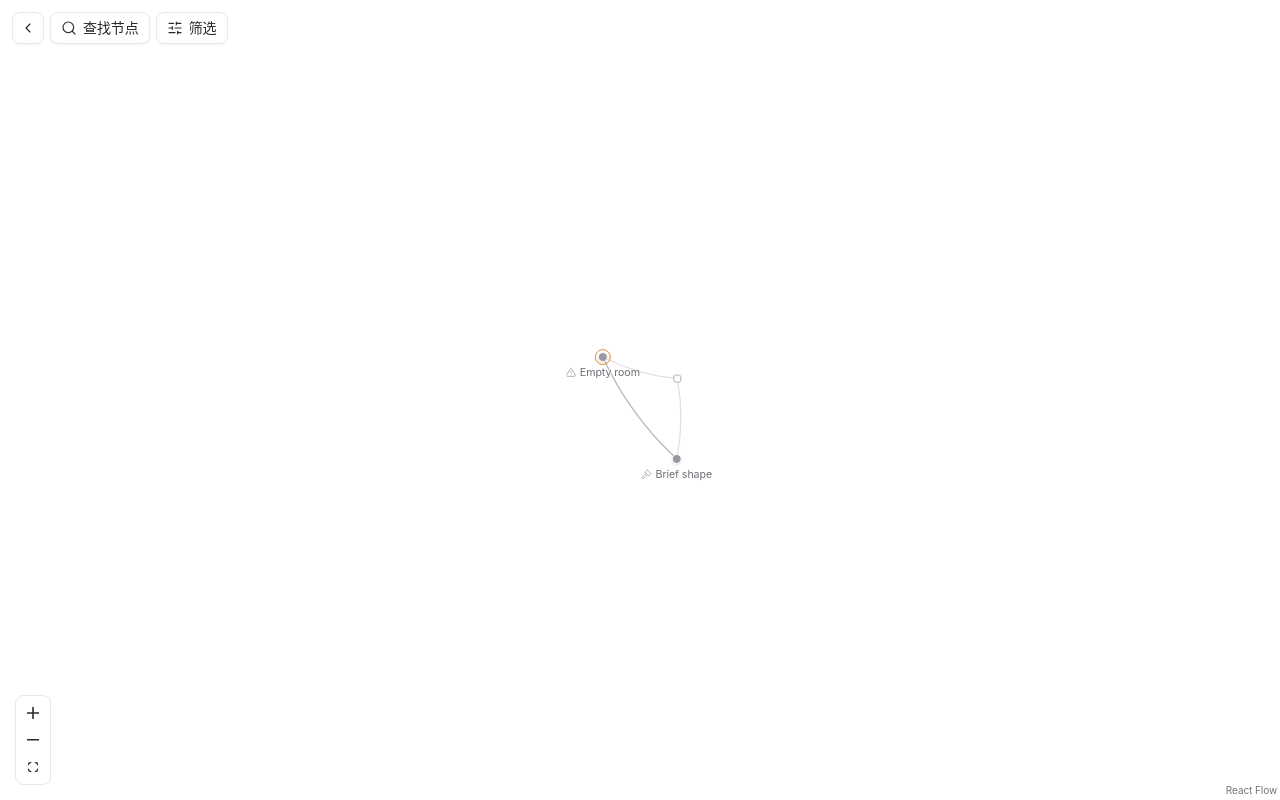
it: WikiGraphView › draws the pages and the directories two of them name a path in; the filters add the rest
The image size is (1280, 800).
Expected: the text "Brief shape" is shown, x1=656 y1=468 x2=712 y2=481
Expected: the text "Empty room" is shown, x1=580 y1=366 x2=640 y2=379
Click the button "筛选" at (192,28), box x1=156 y1=12 x2=228 y2=44
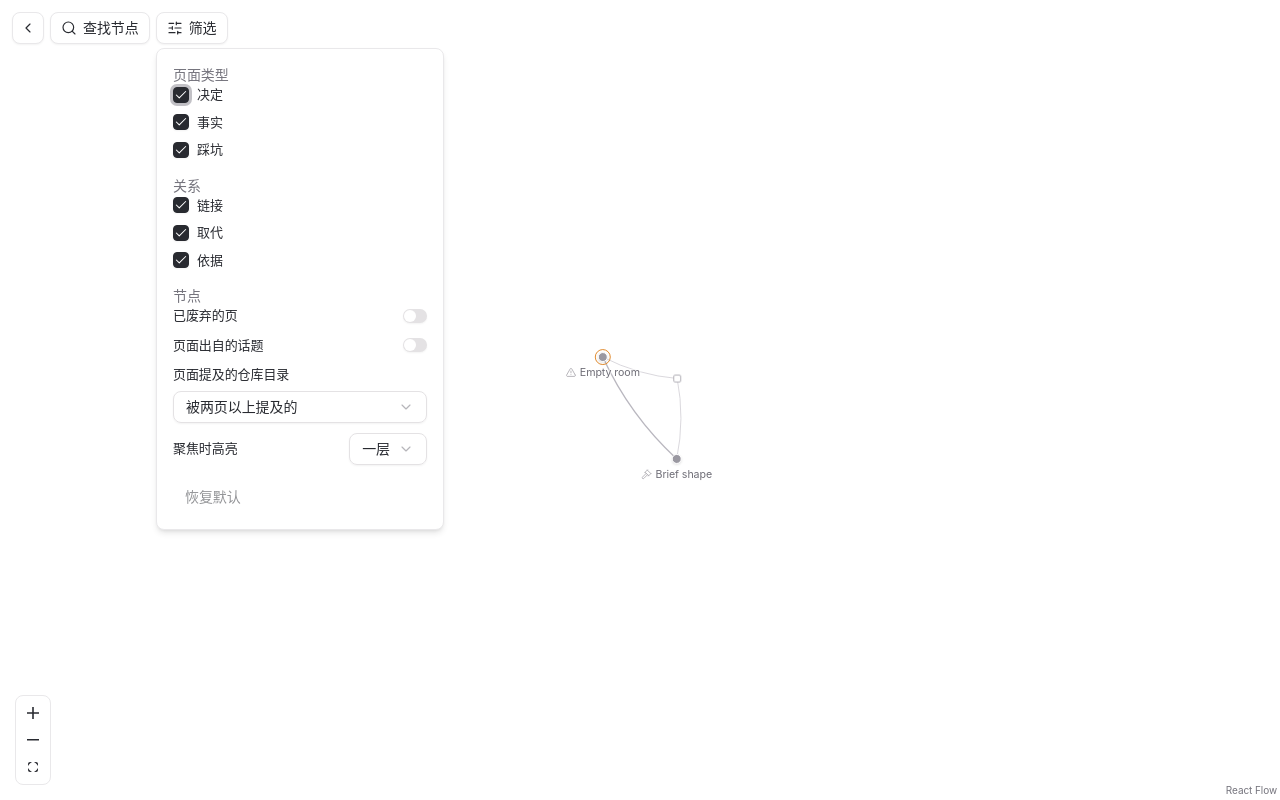
Click the switch named "已废弃的页" in the row of "已废弃的页" at (415,316), box x1=403 y1=309 x2=427 y2=323
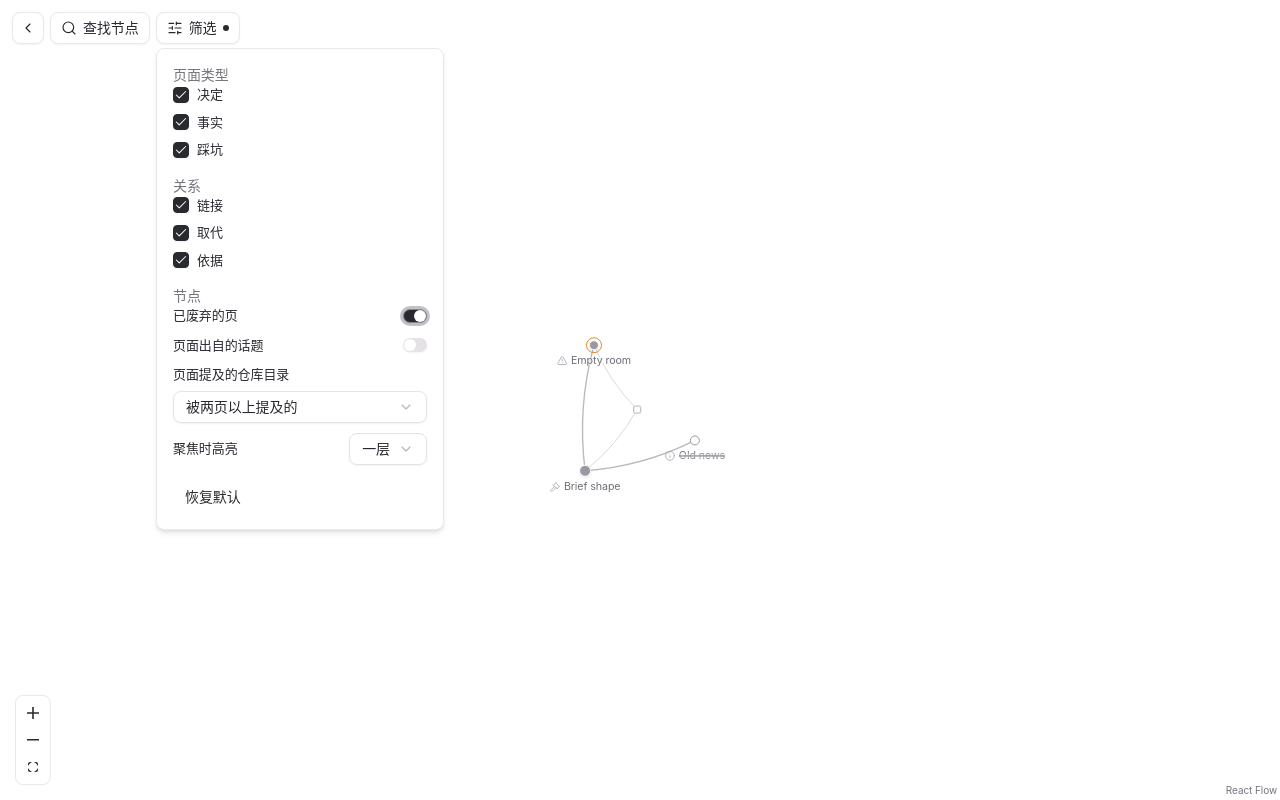
Expected: the text "Old news" is shown, x1=679 y1=449 x2=725 y2=462
Click the switch named "页面出自的话题" next to "页面出自的话题" at (415,345), box x1=403 y1=338 x2=427 y2=352
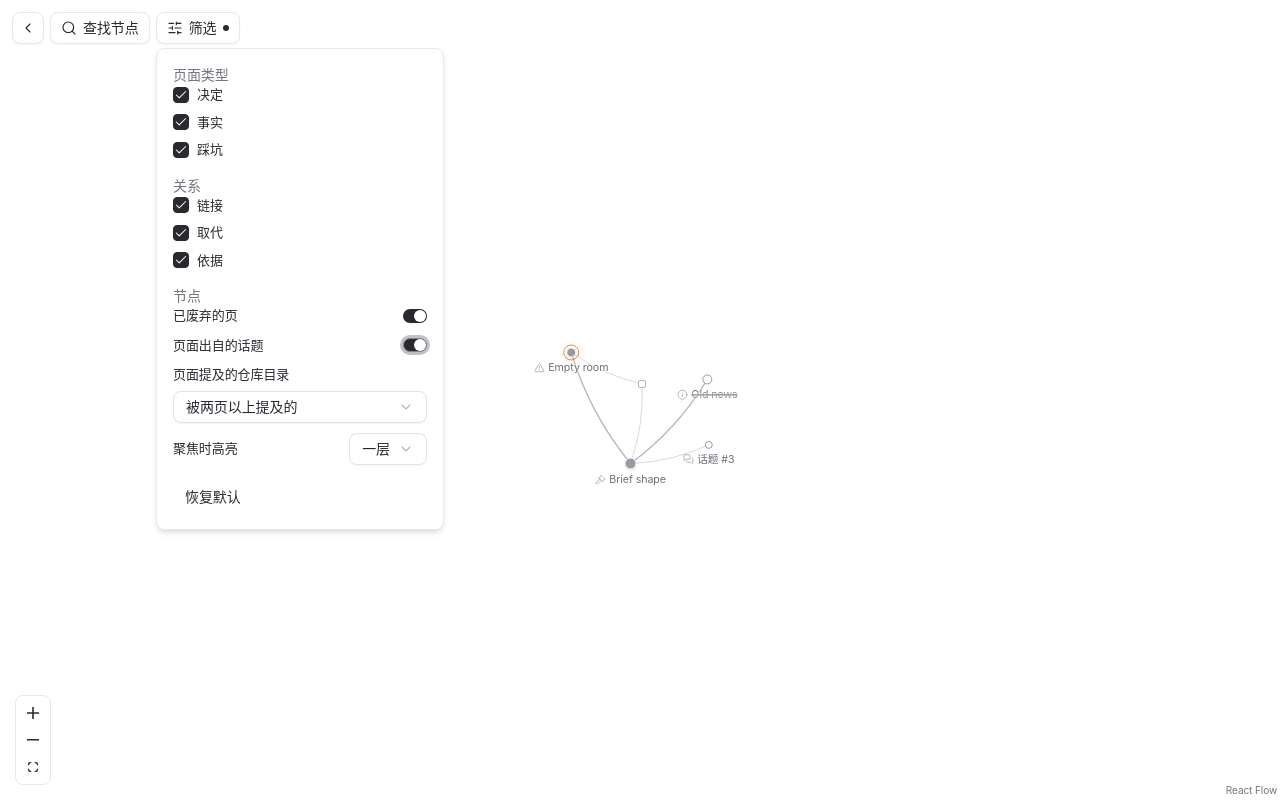
Expected: the text "话题 #3" is shown, x1=697 y1=453 x2=734 y2=466
Click the checkbox named "决定" next to "决定" at (181,95), box x1=173 y1=87 x2=189 y2=103
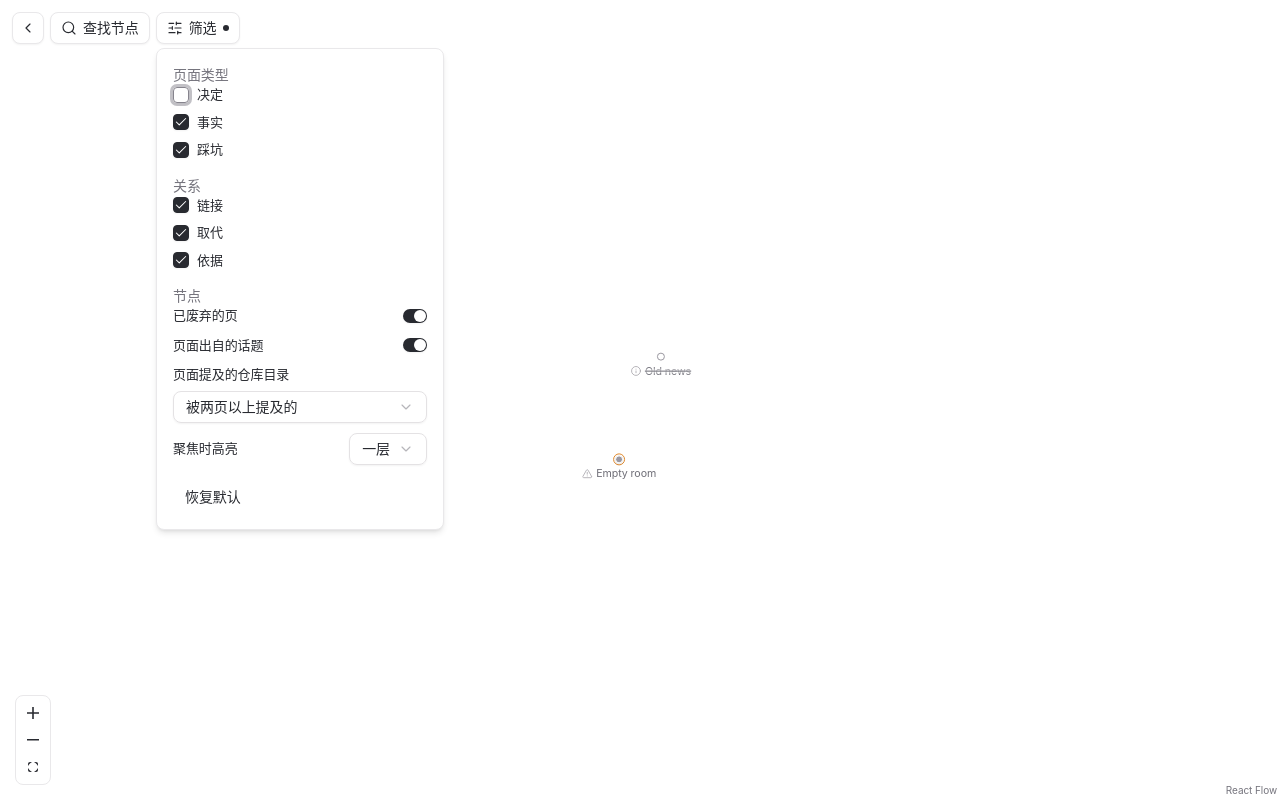
Expected: the text "Brief shape" is gone
Click the button "恢复默认" at (213,496), box x1=173 y1=480 x2=253 y2=512
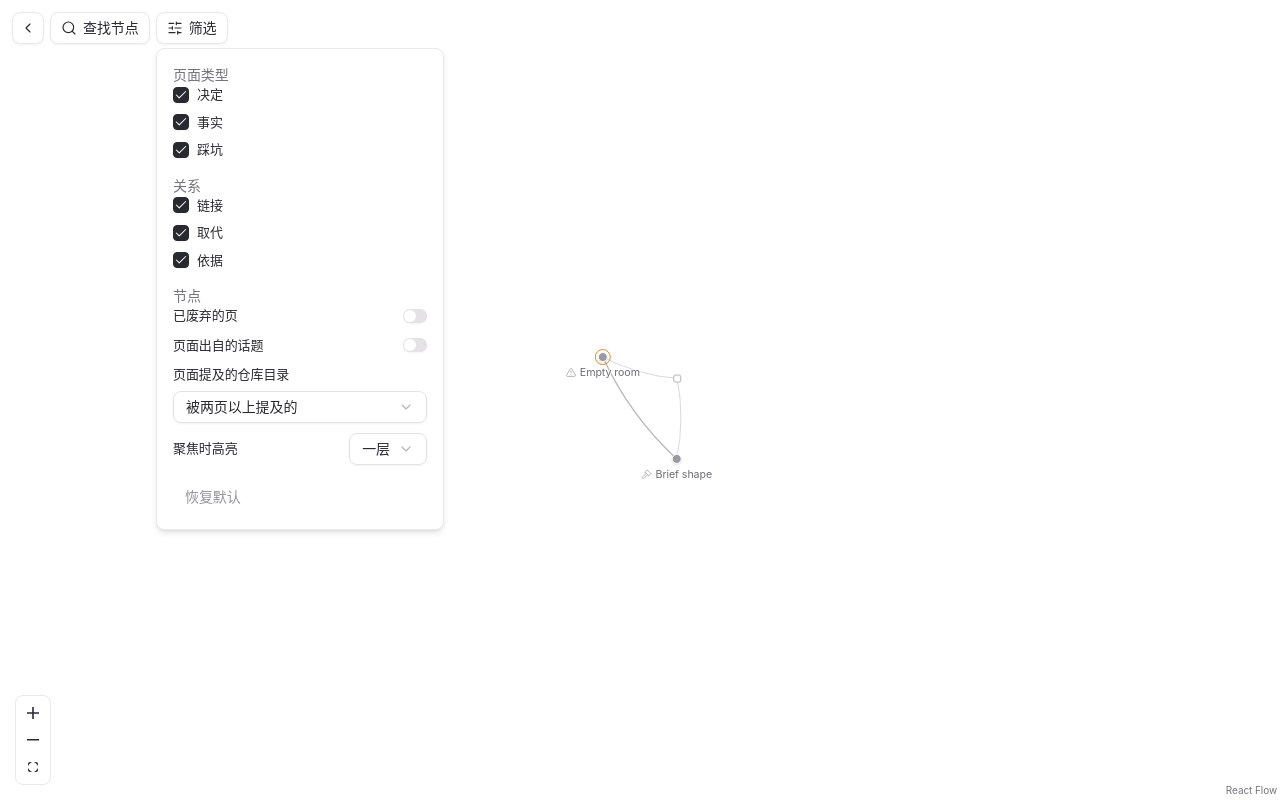
Expected: the text "Brief shape" is shown, x1=656 y1=468 x2=712 y2=481
Expected: the text "Old news" is gone
